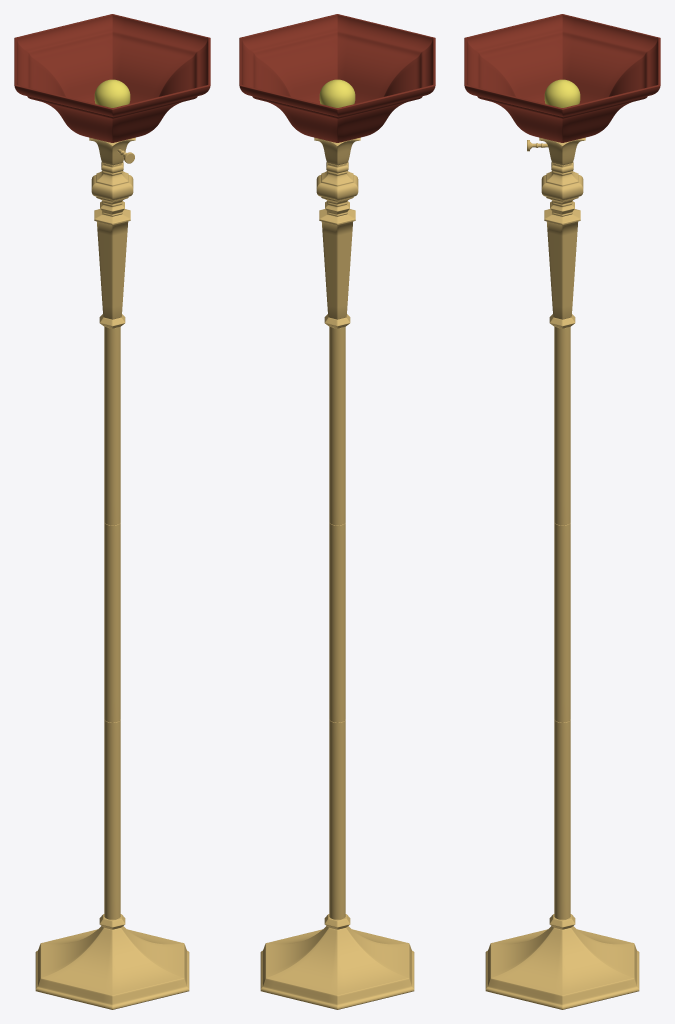
File: luz.gltf
3 renders of one model, left to right at view 1: azimuth 30°, elevation 25°; view 2: azimuth 150°, elevation 25°; view 3: azimuth 270°, elevation 25°, orthographic.
Visible parts, largest first — view 1: 11832_Lamp_v1_l2; view 2: 11832_Lamp_v1_l2; view 3: 11832_Lamp_v1_l2.
Boxes of the visible parts, x1,y1,x2,y2 form: 11832_Lamp_v1_l2: (14,14,210,1009); 11832_Lamp_v1_l2: (239,14,435,1009); 11832_Lamp_v1_l2: (464,14,660,1009).
Size of the model in its own units: 0.6047 by 2.69 by 0.525.
